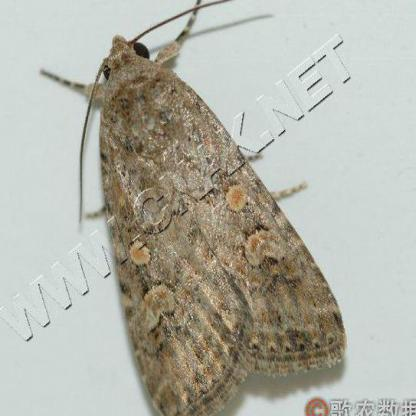armyworm: (44, 6, 372, 416)
